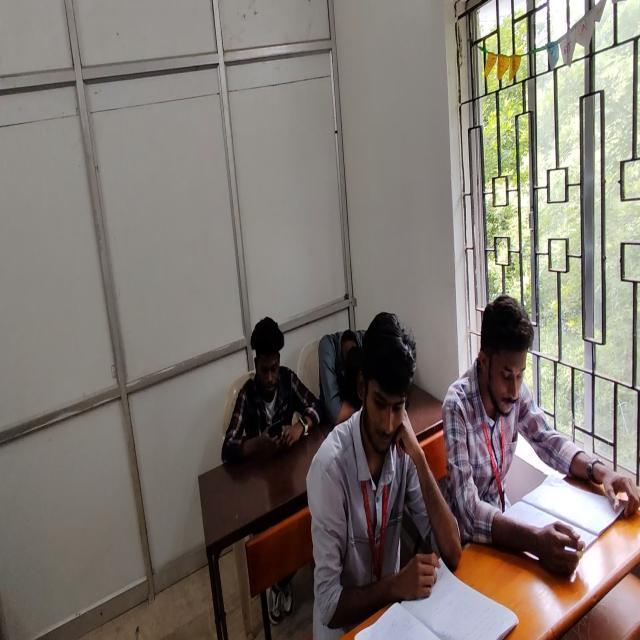reading: (443, 294, 640, 575), (306, 313, 446, 639)
sleeping: (319, 326, 370, 431)
using_mobile: (220, 314, 320, 462)
